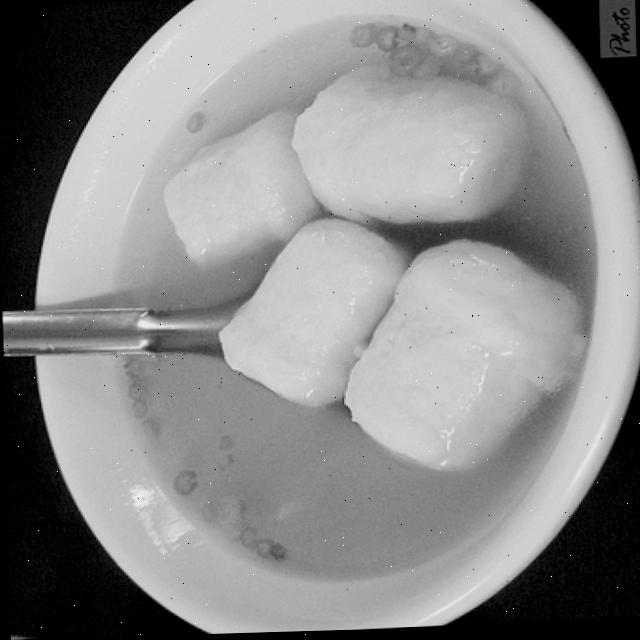熟制海鲜: (82, 0, 612, 522)
